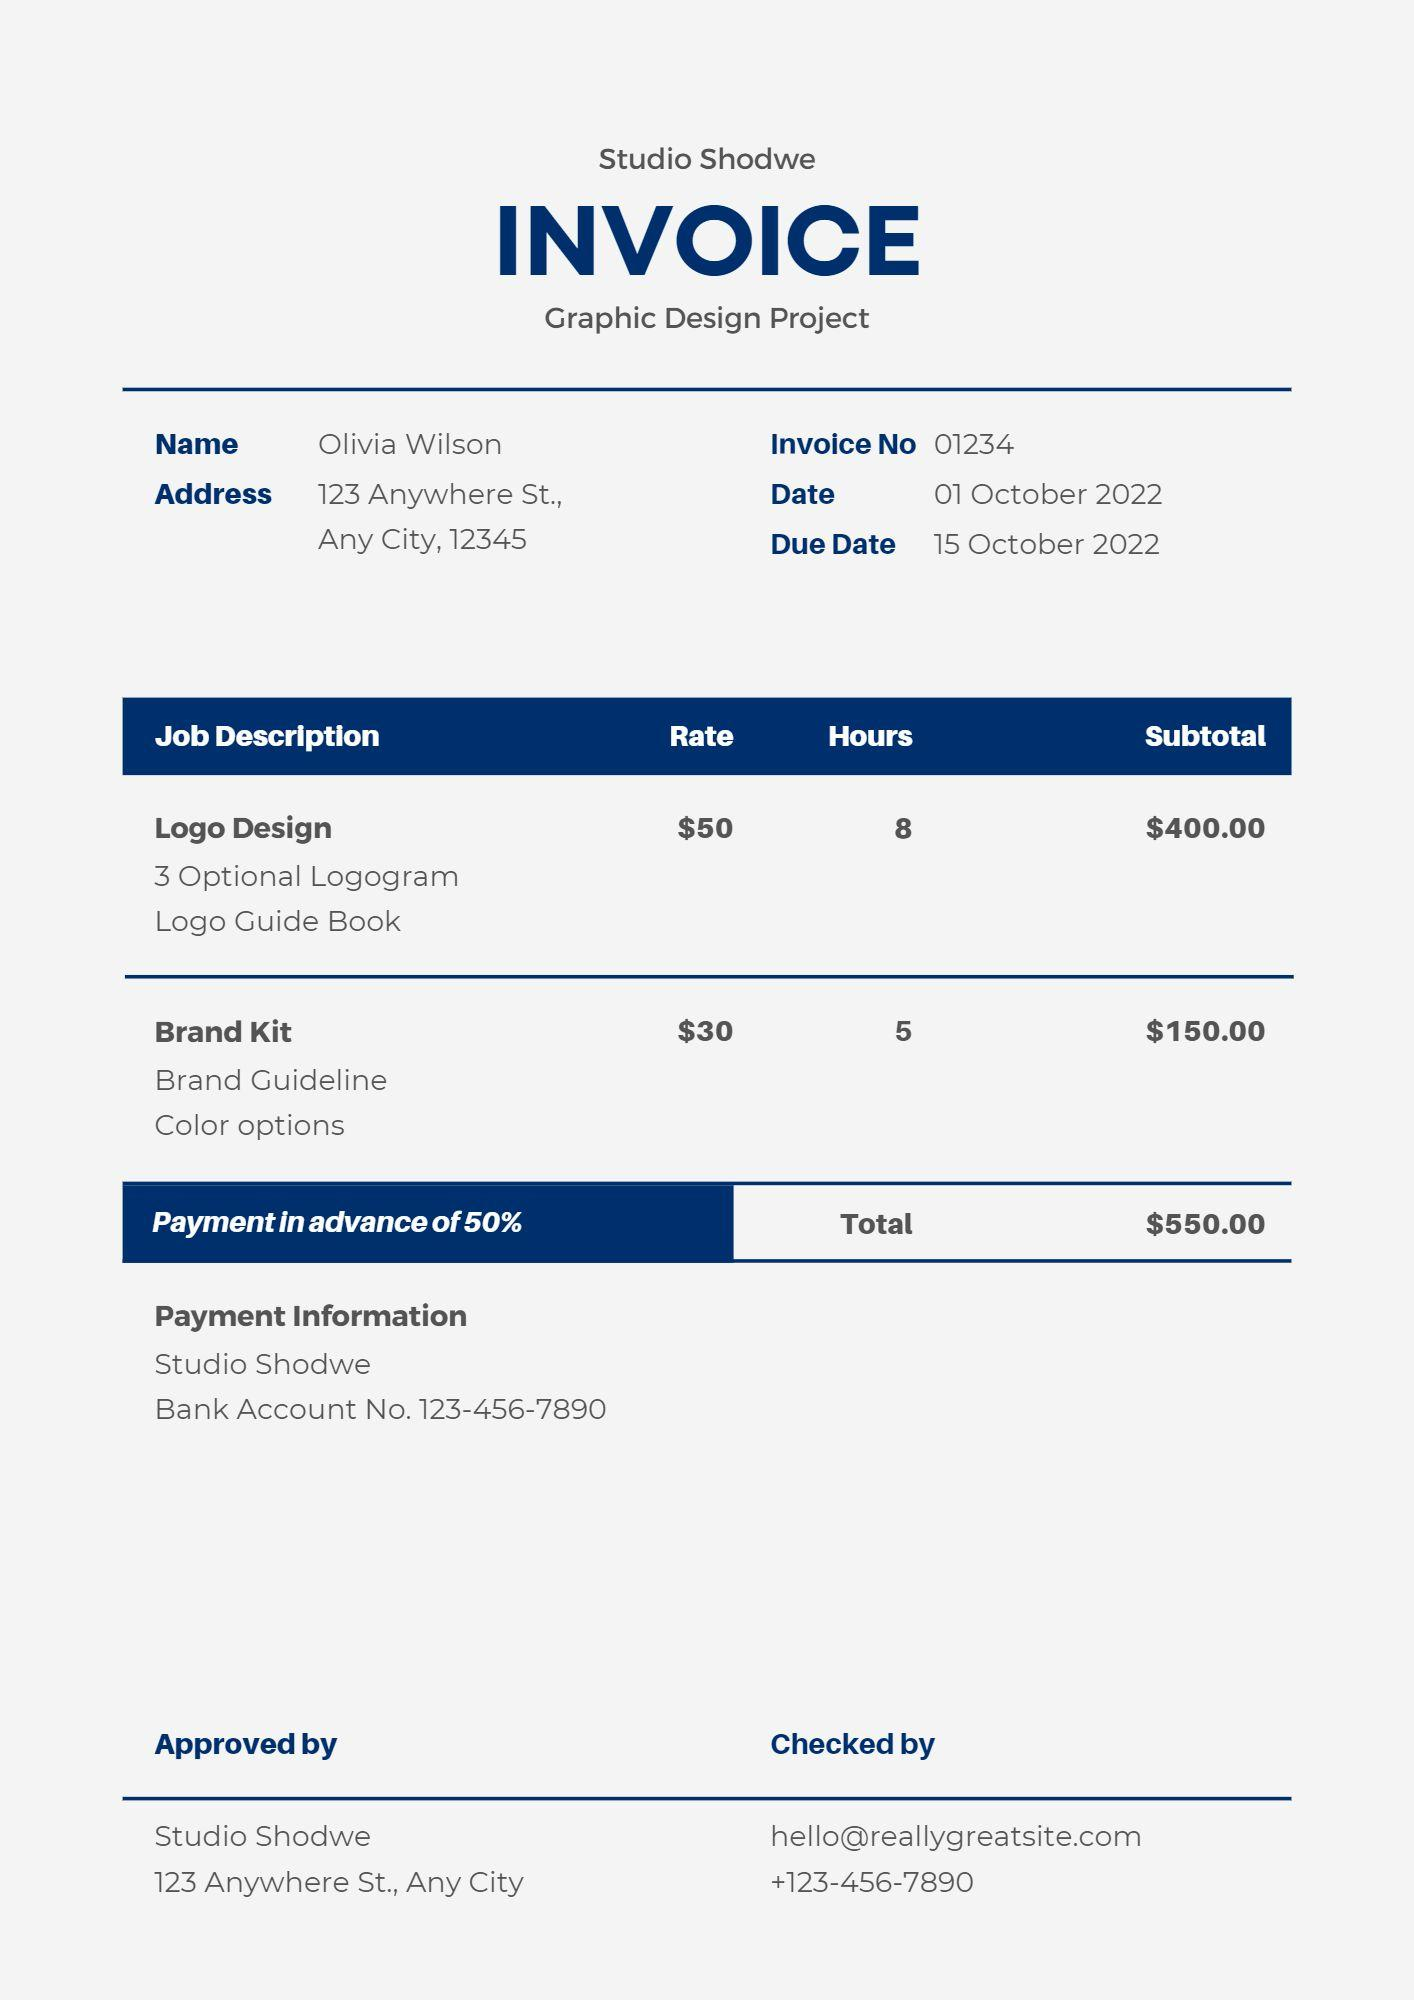ROI: (113, 686, 1292, 1195)
